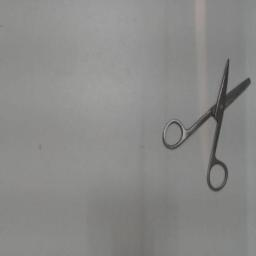Dressing Scissors: (158, 50, 254, 194)
